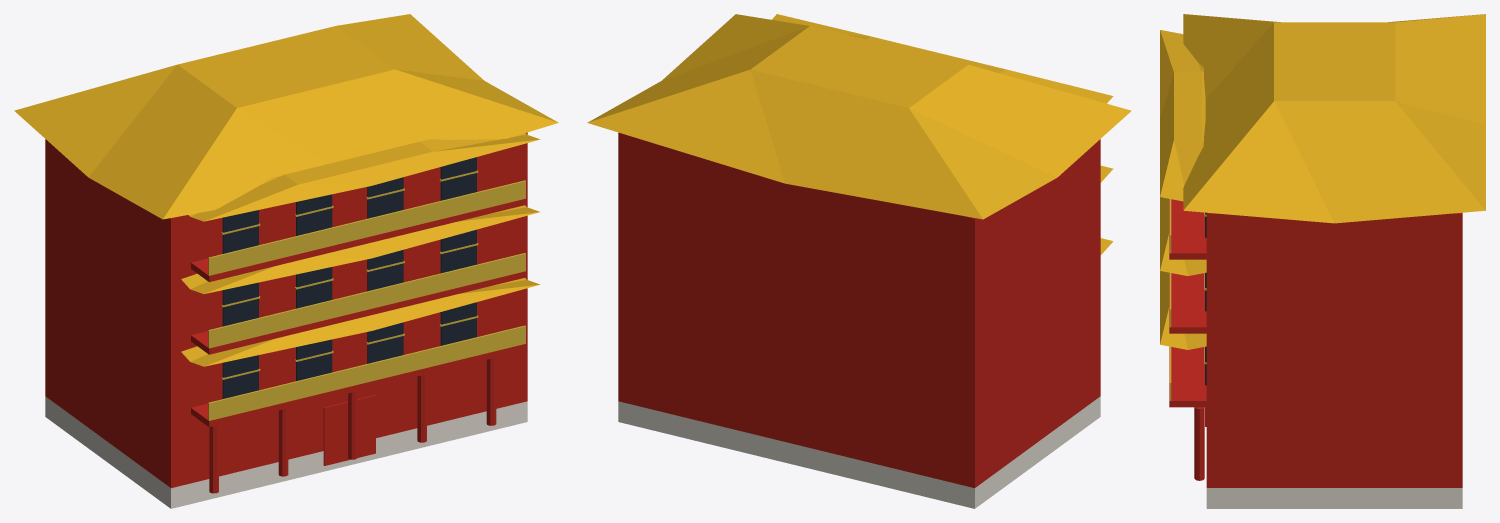
The model's file is building_eastyork_s1_imperial_flats.glb.
3 renders of one model, left to right at view 1: azimuth 30°, elevation 25°; view 2: azimuth 150°, elevation 25°; view 3: azimuth 270°, elevation 25°, orthographic.
Parts seen in each view (by area): view 1: building_eastyork_s1_imperial_flats; view 2: building_eastyork_s1_imperial_flats; view 3: building_eastyork_s1_imperial_flats.
Boxes of the visible parts, x1,y1,x2,y2 form: building_eastyork_s1_imperial_flats: (14, 14, 558, 508); building_eastyork_s1_imperial_flats: (587, 14, 1131, 508); building_eastyork_s1_imperial_flats: (1160, 14, 1485, 508).
Size of the model in its own units: 20 by 17 by 14.
Materials: 1 (1 with a texture image).
